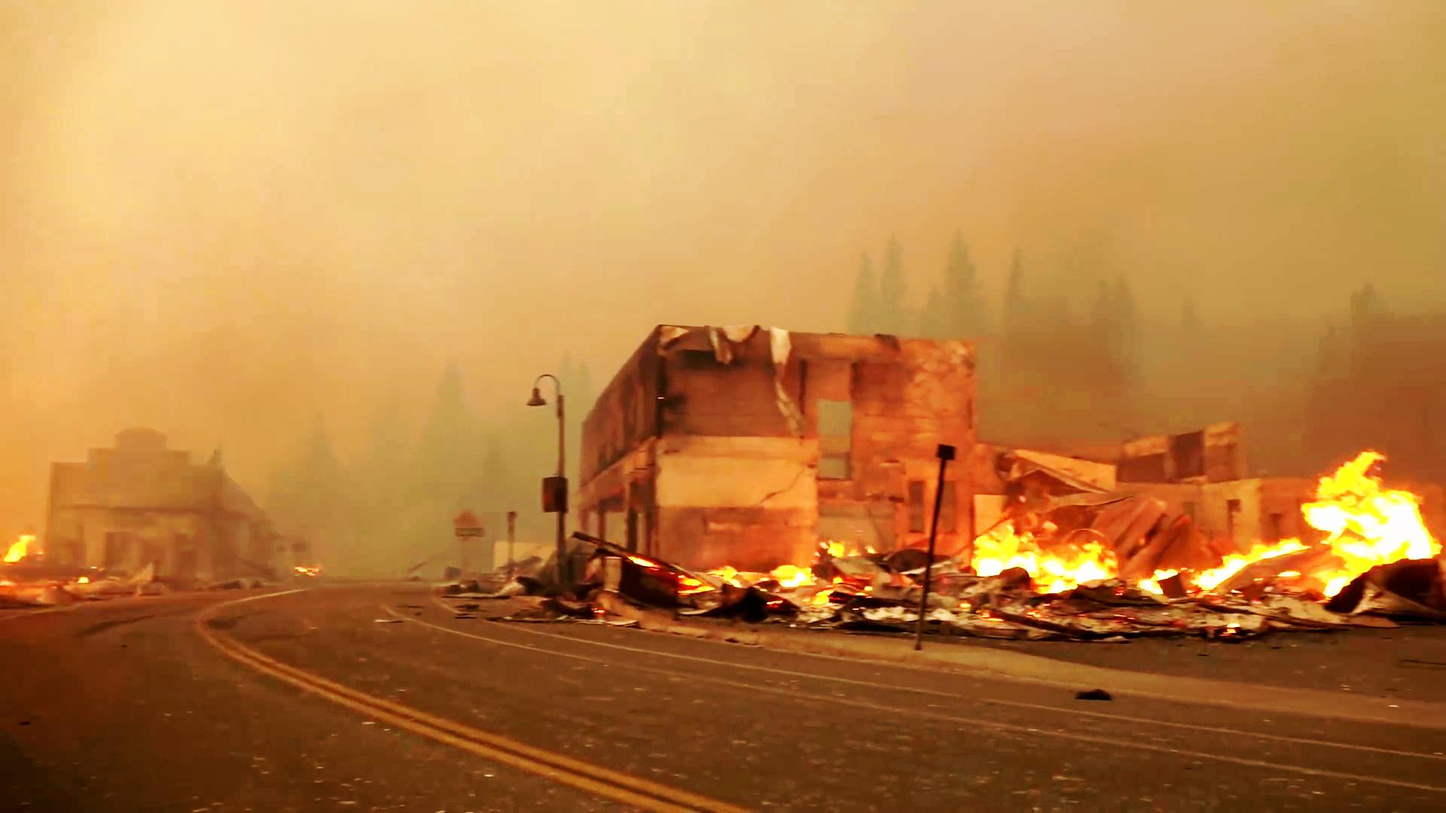fire: (1292, 422, 1446, 572)
